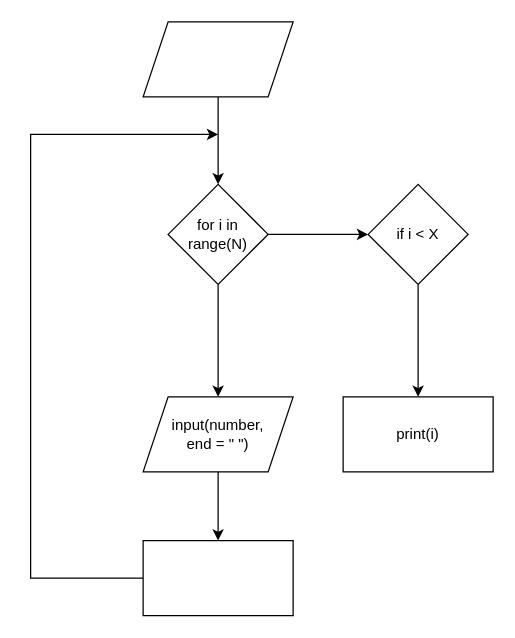
The diagram is 515 pixels wide and 638 high, and some of its shapes have lost their labels. Here are the shapes that lost their labels. From the top down, the box of each, then its label:
(142, 21, 293, 97): N, X 입력
(142, 539, 293, 616): i++
